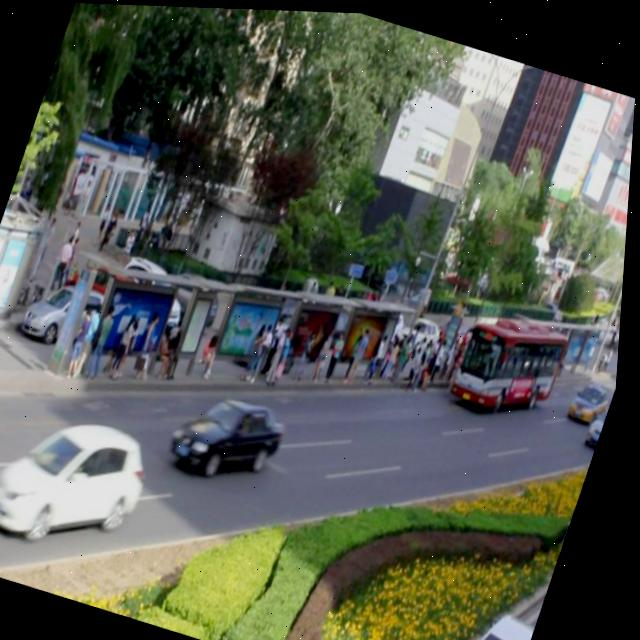car: (0, 394, 165, 562), (168, 380, 298, 488), (569, 374, 615, 422), (586, 394, 615, 443)
van: (450, 295, 577, 422)
